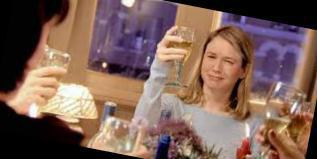Drunk: (204, 39, 237, 86)
